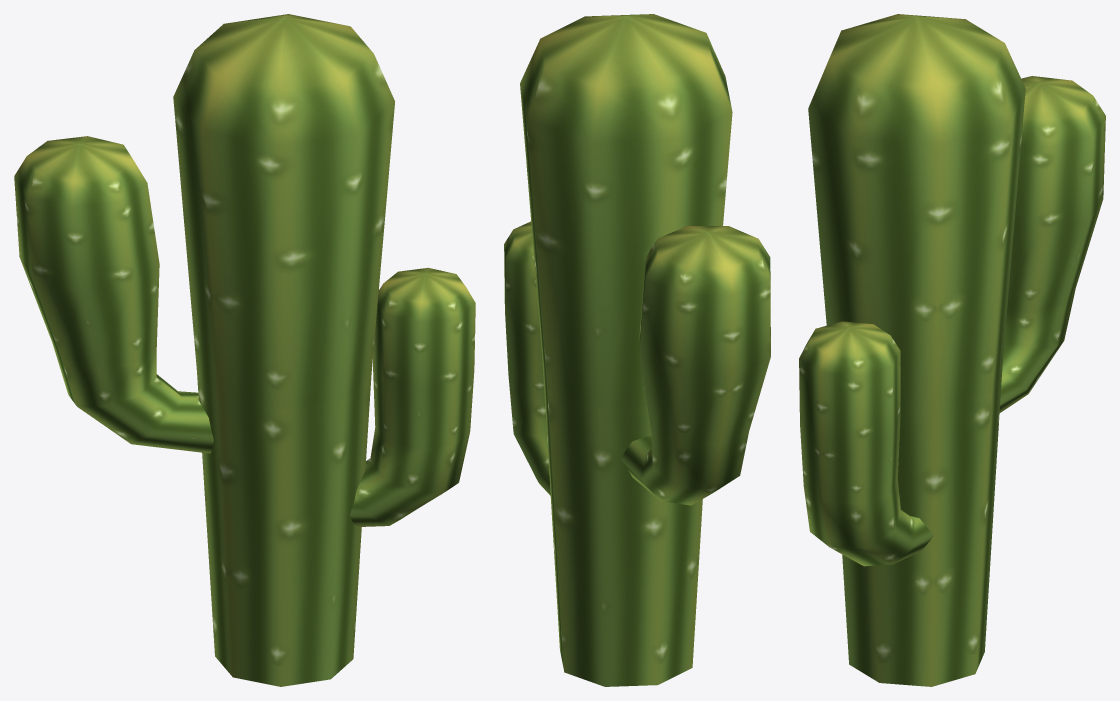
Rendered from xianrenzhang02.FBX.
3 views of the same model, side by side, from view 1: azimuth 30°, elevation 25°; view 2: azimuth 150°, elevation 25°; view 3: azimuth 270°, elevation 25° (orthographic).
Parts seen in each view (by area): view 1: xianrenzhang02; view 2: xianrenzhang02; view 3: xianrenzhang02.
Part boxes in pixels (box(x1,y1,x2,y2)): xianrenzhang02: box(14, 14, 475, 686); xianrenzhang02: box(504, 14, 770, 686); xianrenzhang02: box(799, 14, 1105, 686).
Bounding box in the file's own units: 93.18 × 162 × 70.46.
